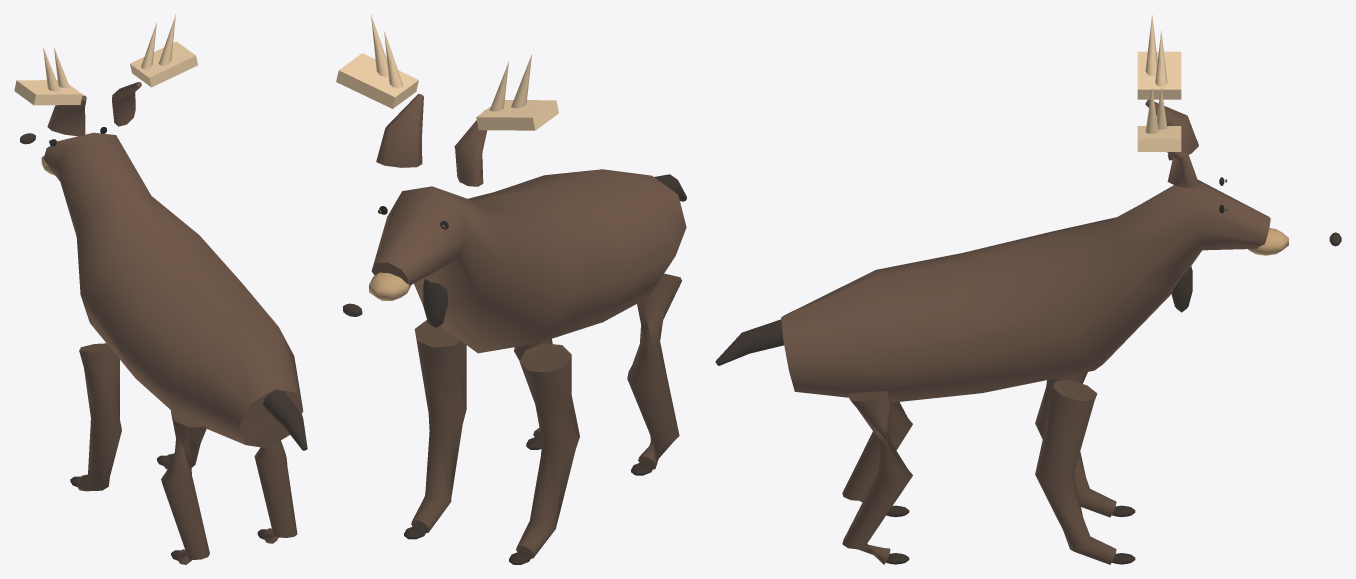
File: moose_mobile.glb
The picture shows the model from 3 angles, left to right: view 1: azimuth 30°, elevation 25°; view 2: azimuth 150°, elevation 25°; view 3: azimuth 270°, elevation 25°; orthographic projection. The views are drawn at different scales.
Parts seen in each view (by area): view 1: MooseOrganicBody, Leg_LF, Leg_LH, Leg_RH, AntlerPalmDetail_R, AntlerPalmDetail_L, Tail, Ear, Ear2; view 2: MooseOrganicBody, Leg_LF, Leg_RF, Leg_LH, Ear2, AntlerPalmDetail_R, AntlerPalmDetail_L, Ear, Dewlap, Muzzle, _MeshInstance3D_67, _MeshInstance3D_65 (+1 smaller); view 3: MooseOrganicBody, Leg_RF, Leg_RH, Leg_LH, Leg_LF, AntlerPalmDetail_L, Tail, AntlerPalmDetail_R, Ear2, Ear.
Part boxes in pixels (left/top/right/bottom): MooseOrganicBody: left=43, top=132, right=303, bottom=448; Leg_LF: left=76, top=343, right=121, bottom=491; Leg_LH: left=161, top=407, right=209, bottom=564; Leg_RH: left=254, top=440, right=297, bottom=543; AntlerPalmDetail_R: left=130, top=41, right=197, bottom=87; AntlerPalmDetail_L: left=14, top=80, right=82, bottom=105; Tail: left=263, top=390, right=307, bottom=450; Ear: left=47, top=95, right=86, bottom=136; Ear2: left=112, top=82, right=141, bottom=126; MooseOrganicBody: left=371, top=169, right=686, bottom=353; Leg_LF: left=516, top=343, right=579, bottom=558; Leg_RF: left=411, top=320, right=466, bottom=532; Leg_LH: left=627, top=273, right=681, bottom=469; Ear2: left=376, top=94, right=423, bottom=167; AntlerPalmDetail_R: left=336, top=53, right=418, bottom=108; AntlerPalmDetail_L: left=476, top=100, right=558, bottom=130; Ear: left=454, top=110, right=487, bottom=186; Dewlap: left=423, top=278, right=447, bottom=328; Muzzle: left=369, top=272, right=411, bottom=300; _MeshInstance3D_67: left=371, top=15, right=388, bottom=76; _MeshInstance3D_65: left=511, top=54, right=531, bottom=108; MooseOrganicBody: left=781, top=180, right=1270, bottom=402; Leg_RF: left=1035, top=380, right=1116, bottom=564; Leg_RH: left=842, top=391, right=912, bottom=564; Leg_LH: left=842, top=402, right=912, bottom=502; Leg_LF: left=1035, top=372, right=1116, bottom=517; AntlerPalmDetail_L: left=1137, top=51, right=1181, bottom=99; Tail: left=715, top=319, right=783, bottom=365; AntlerPalmDetail_R: left=1137, top=126, right=1181, bottom=151; Ear2: left=1167, top=147, right=1198, bottom=187; Ear: left=1145, top=99, right=1198, bottom=160.
Bounding box in the file's own units: 1.65 × 4.19 × 4.85.
